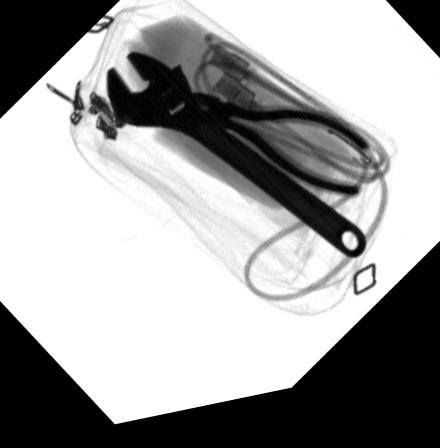Pliers: (181, 97, 375, 210)
Wrench: (106, 55, 365, 274)
